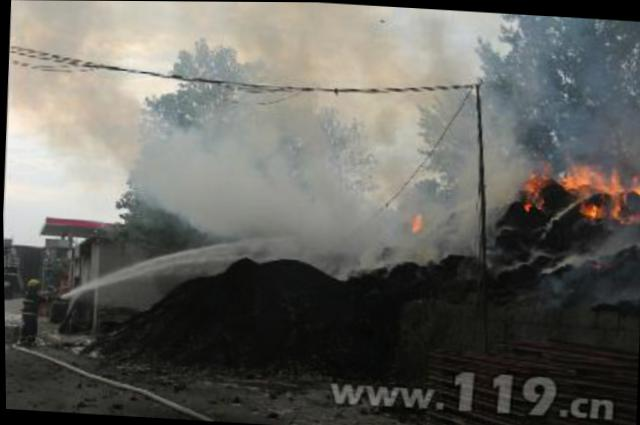fire: (558, 162, 595, 185), (580, 198, 605, 214), (605, 168, 620, 191)
